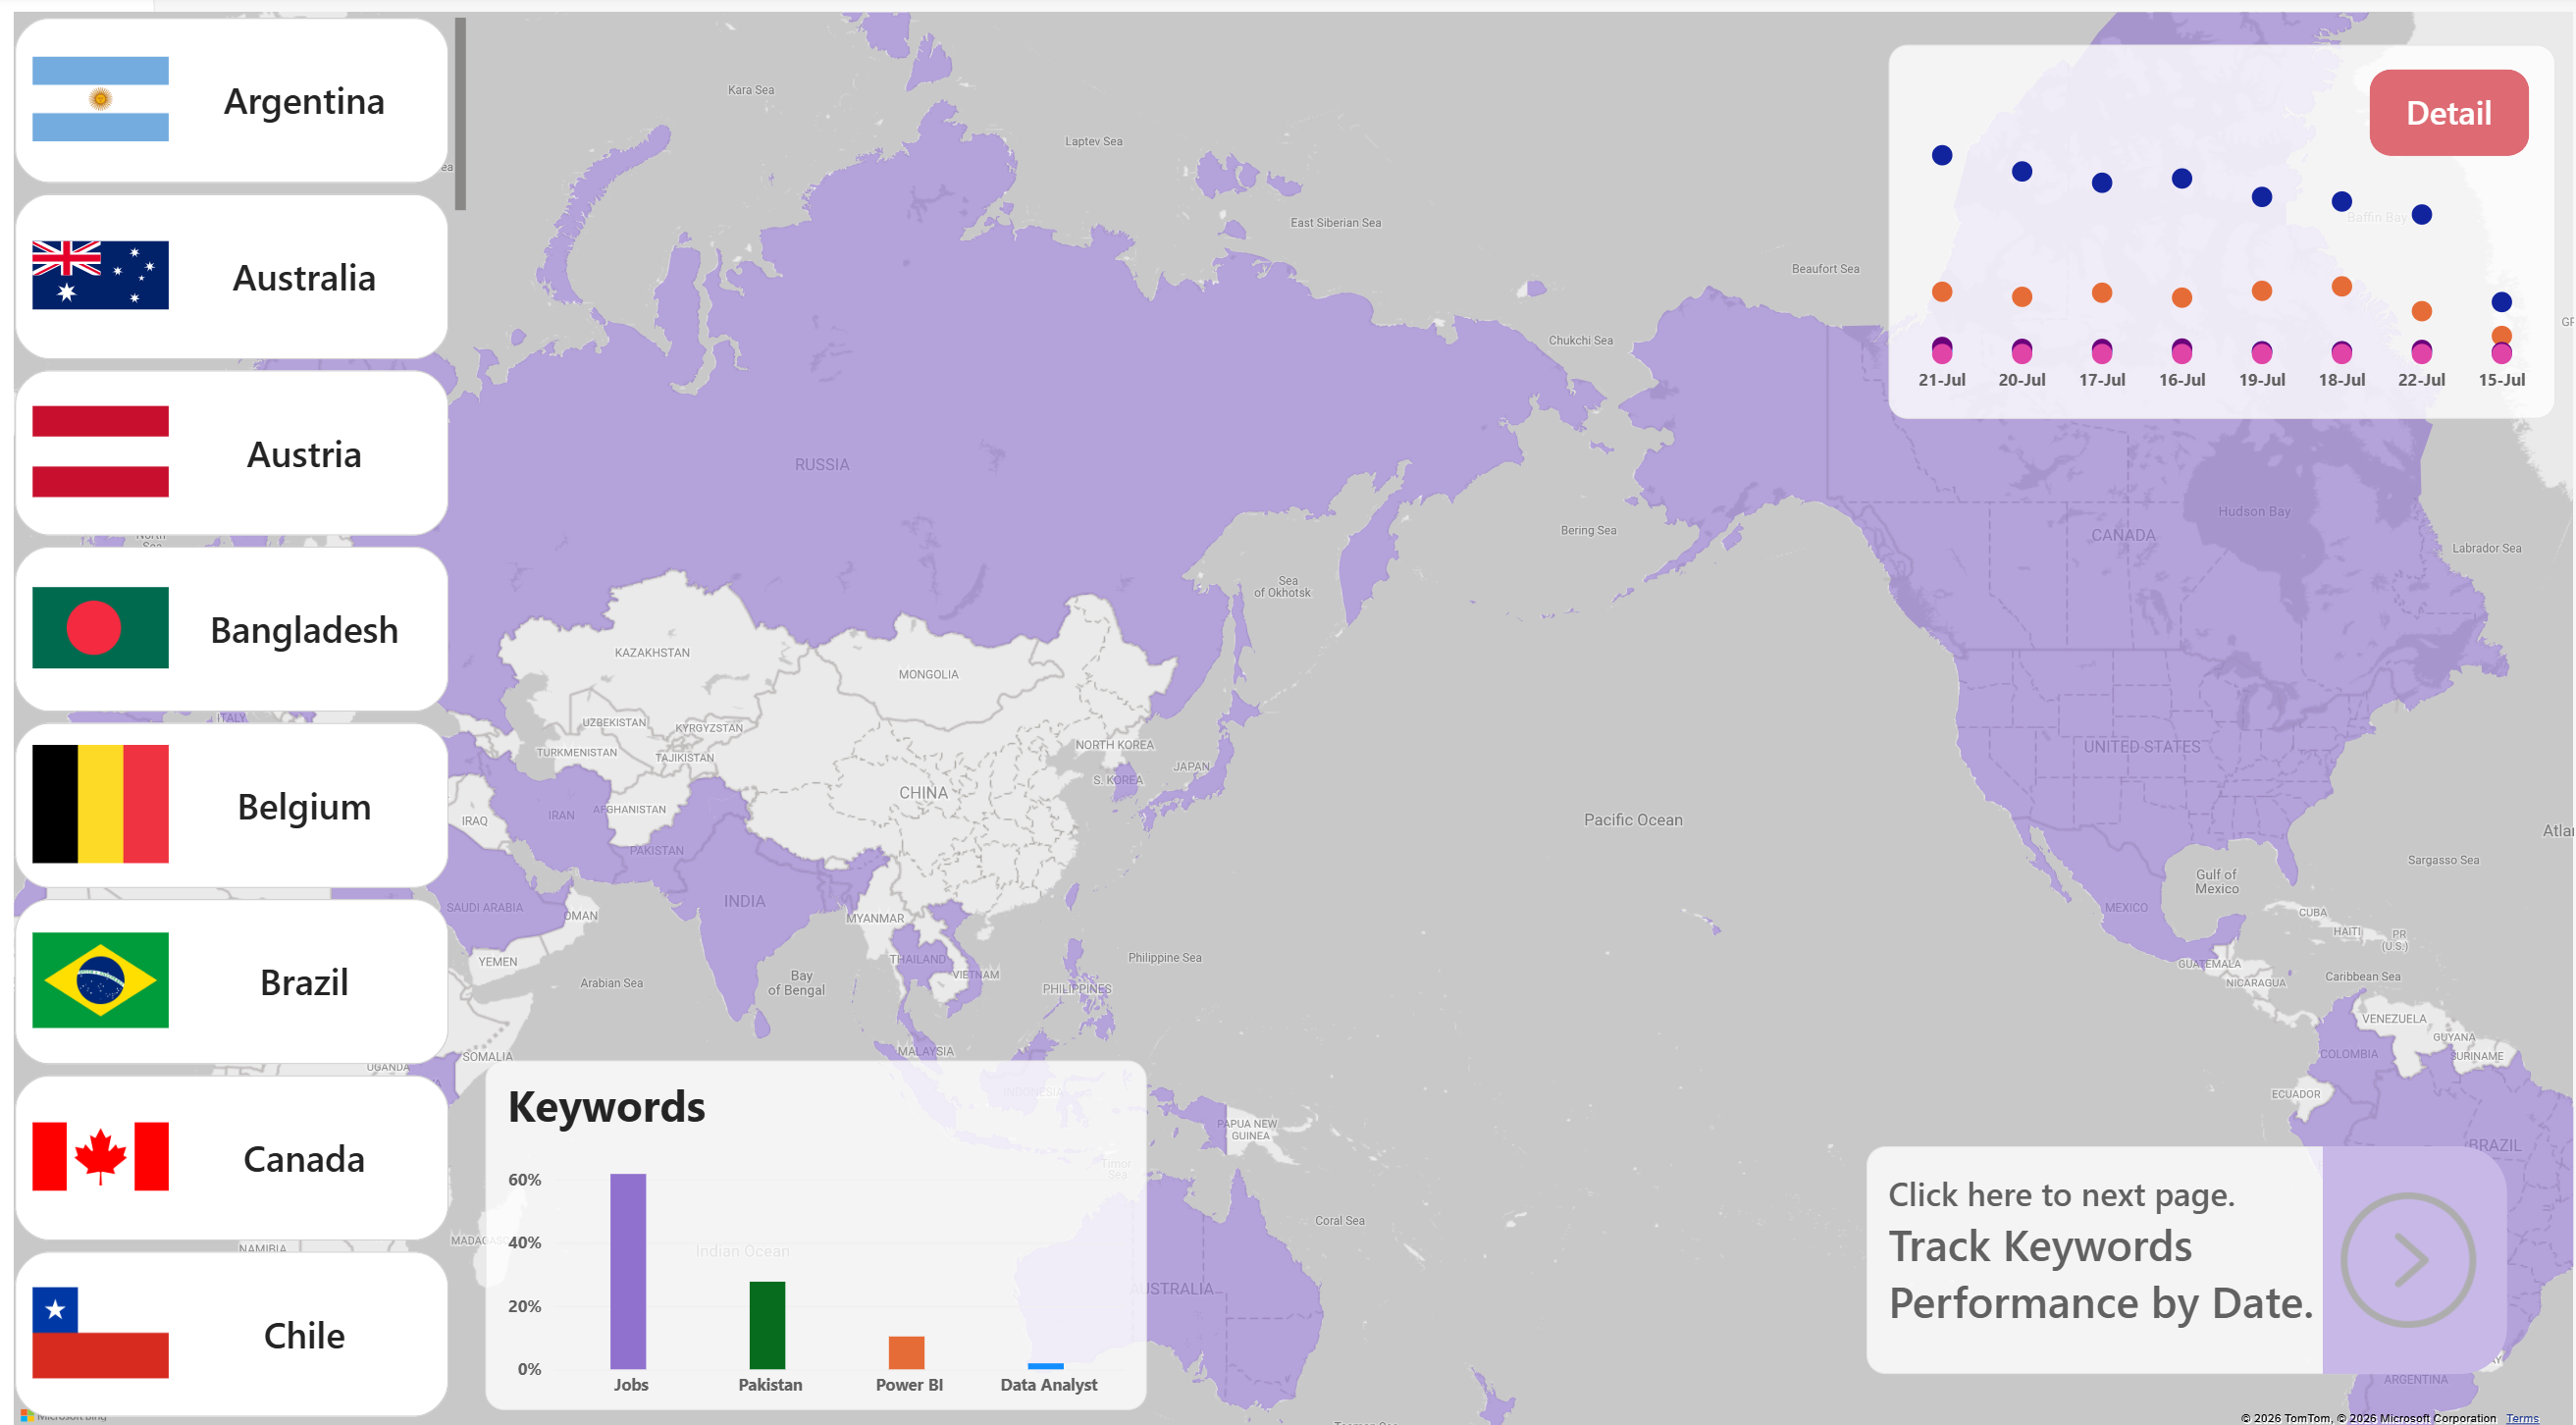

What the dashboard file says about the page in this screenshot:
{"tool":"powerbi","page":{"name":"Overview","canvas":[1920,1080],"ordinal":0},"visuals":[{"type":"shape","box":[0,0,120,1080],"z":0},{"type":"filledMap","fields":{"Category":["Country_API.Country"]},"box":[0,0,1920,1080],"z":500},{"type":"advancedSlicerVisual","fields":{"Values":["Country_API.Country"]},"box":[16.5,18.5,333.4,1039.5],"z":1000},{"type":"shape","box":[1398,38,492,276],"z":3000},{"type":"shape","box":[1382,850,406,168],"z":4000},{"type":"actionButton","box":[1720,850,136,168],"z":5000},{"type":"shape","box":[364,788,488,258],"z":6000},{"type":"clusteredColumnChart","title":"   Keywords","fields":{"Y":["Country_Measures.Country_Value"],"Category":["Country_API.Keywords"]},"box":[380,798,456,242],"z":7000},{"type":"lineChart","fields":{"Series":["Past_7_Days_Searches.Keyword"],"Y":["Sum(Past_7_Days_Searches.Value)"],"Category":["Past_7_Days_Searches.new_date"]},"box":[1398,88,492,226],"z":8000},{"type":"actionButton","title":"Detail","box":[1753.8,56.4,117.9,64.1],"z":9000},{"type":"textbox","box":[1398,868,322,166],"z":10000}]}

Visuals, with their boxes in screenshot pixels (x1, y1, x2, y2), scaled from the page's 1920x1080 canvas onto the 2576x1425 screenshot:
shape: l=0, t=0, r=161, b=1424
filledMap - Country_API.Country: l=0, t=0, r=2575, b=1424
advancedSlicerVisual - Country_API.Country: l=23, t=25, r=469, b=1396
shape: l=1875, t=50, r=2536, b=414
shape: l=1854, t=1122, r=2399, b=1344
actionButton: l=2308, t=1122, r=2491, b=1344
shape: l=489, t=1039, r=1143, b=1380
"   Keywords" clusteredColumnChart: l=510, t=1053, r=1122, b=1372
lineChart - Past_7_Days_Searches.Keyword x Sum(Past_7_Days_Searches.Value): l=1875, t=116, r=2536, b=414
"Detail" actionButton: l=2353, t=75, r=2511, b=159
textbox: l=1875, t=1145, r=2308, b=1364
